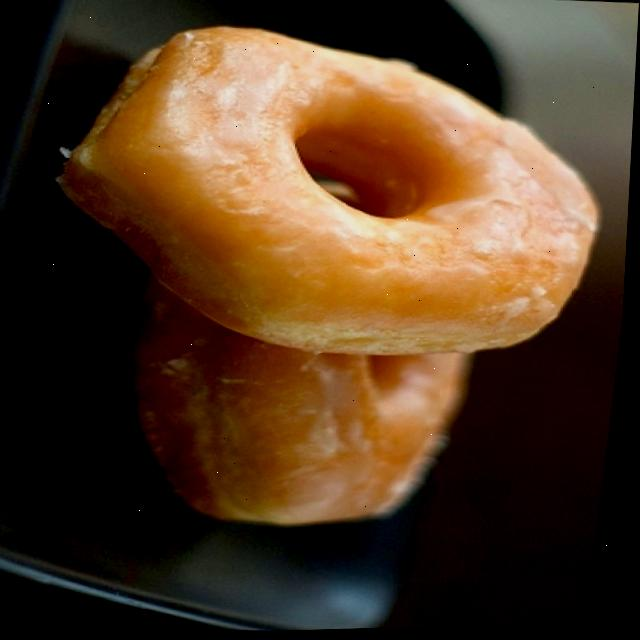炸货点心: (24, 0, 640, 586)
